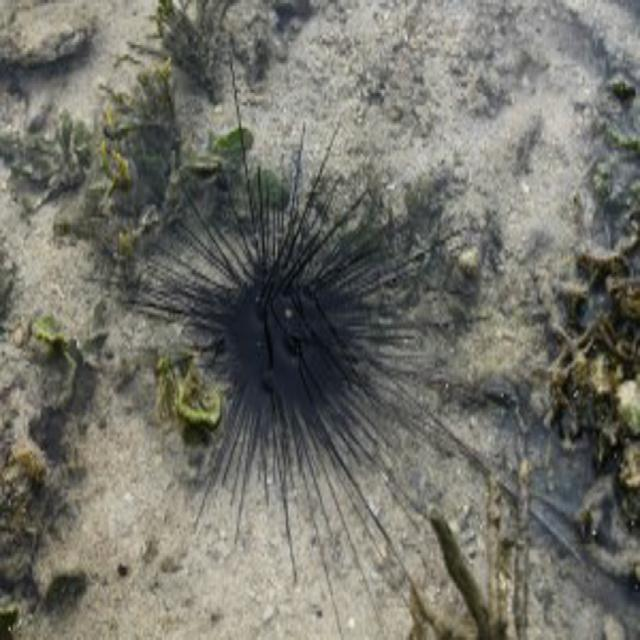Urchin: (132, 87, 471, 502)
